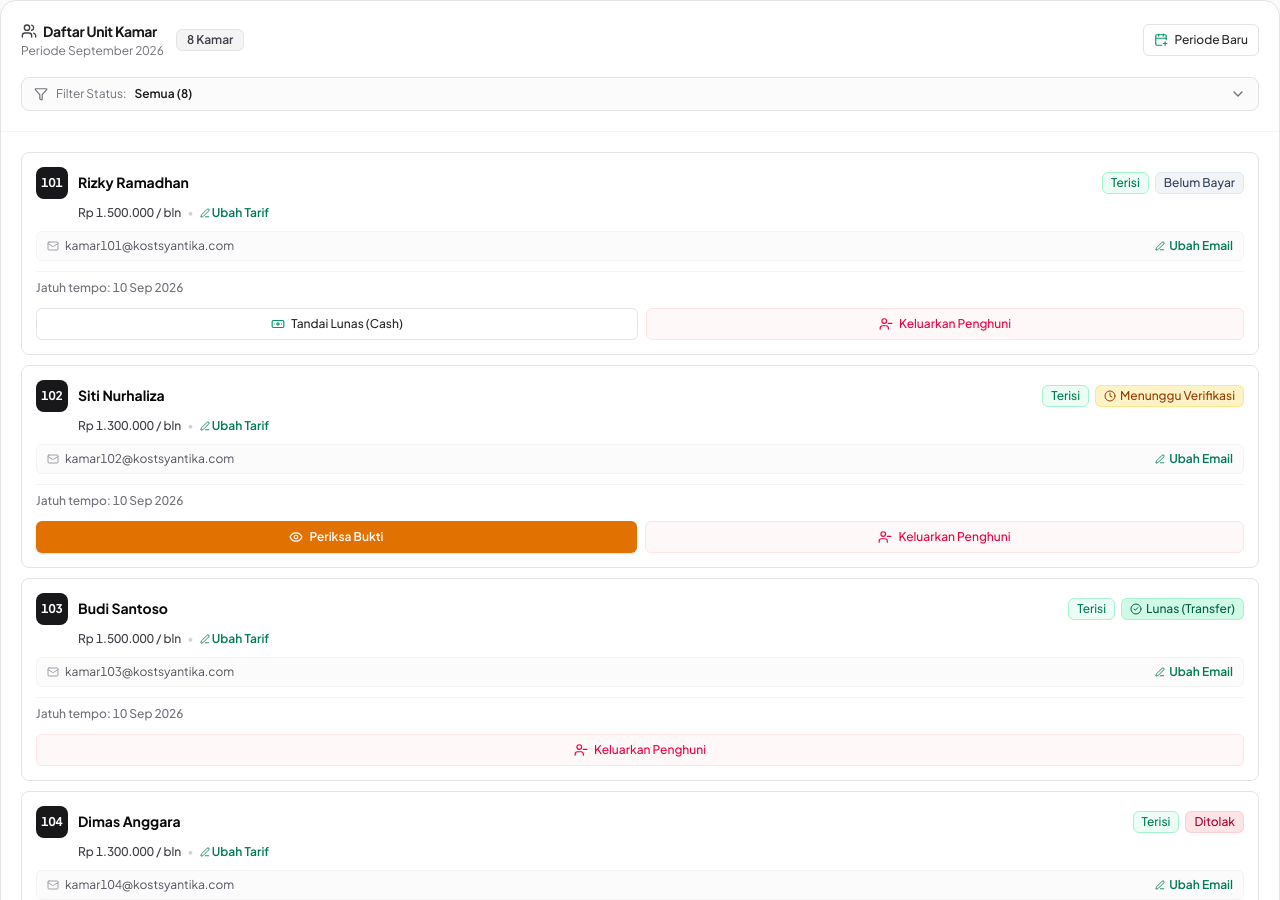
it: PemilikManajemenKamar Integration (Issue 03) › 5. Kartu kamar TERISI menyediakan aksi cepat untuk mengubah email Google terdaftar (Ubah Email)
Check: the text "kamar102@kostsyantika.com" is shown, box x1=65 y1=451 x2=234 y2=467
Click the button with aria-label "Ubah Email Kamar 102" at (1194, 459), box x1=1155 y1=451 x2=1233 y2=467
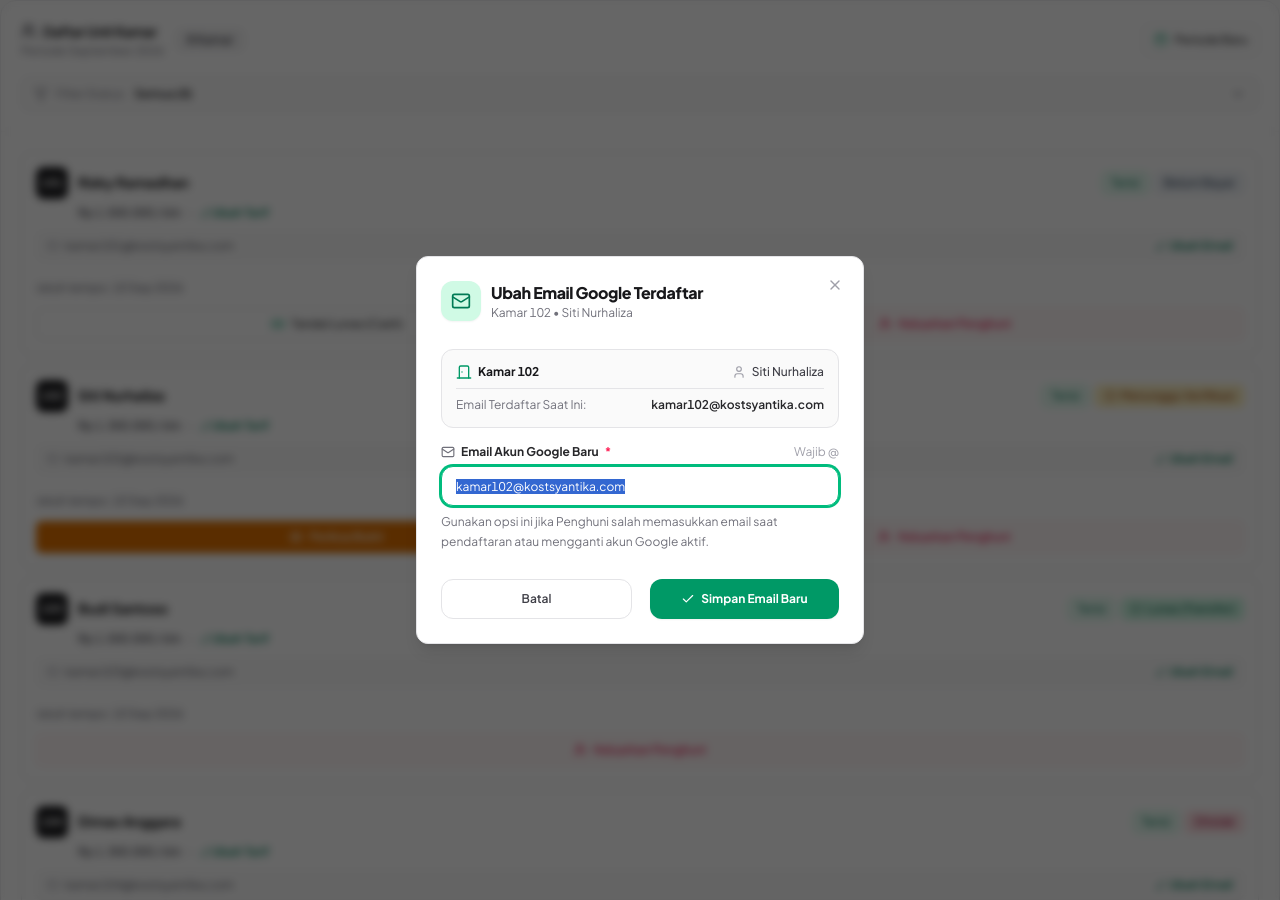
Check: the heading "Ubah Email Google Terdaftar" is shown, box x1=491 y1=281 x2=703 y2=305
Check: the text "Kamar 102 • Siti Nurhaliza" is shown, box x1=491 y1=305 x2=633 y2=320
Note: Masukkan email baru
Replace the text in the field labelled "Email Akun Google Baru * Wajib @" with "siti.resmi@gmail.com" at (640, 486), box x1=441 y1=466 x2=839 y2=506
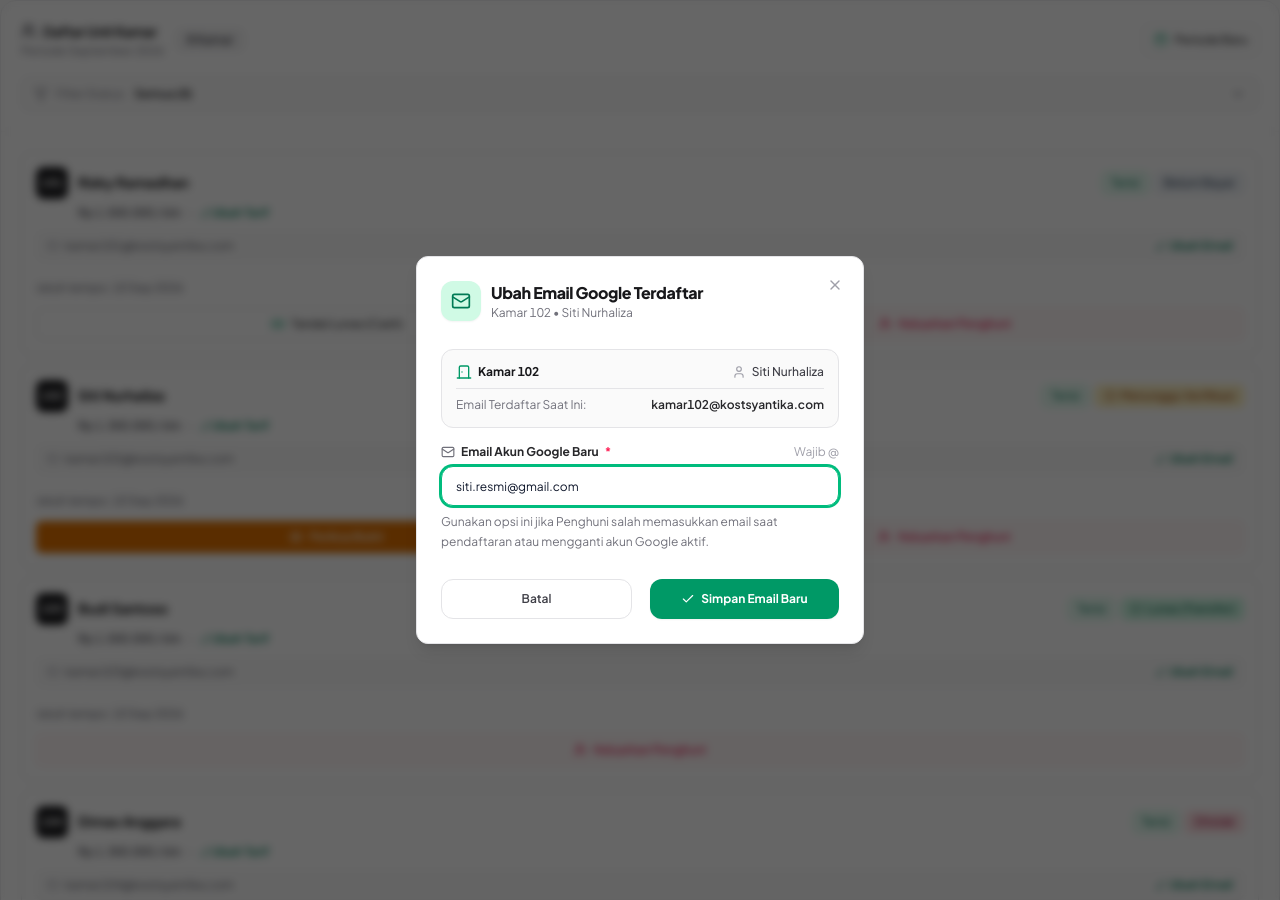
Note: Simpan email baru
Click the button "Simpan Email Baru" at (744, 599), box x1=650 y1=579 x2=839 y2=619
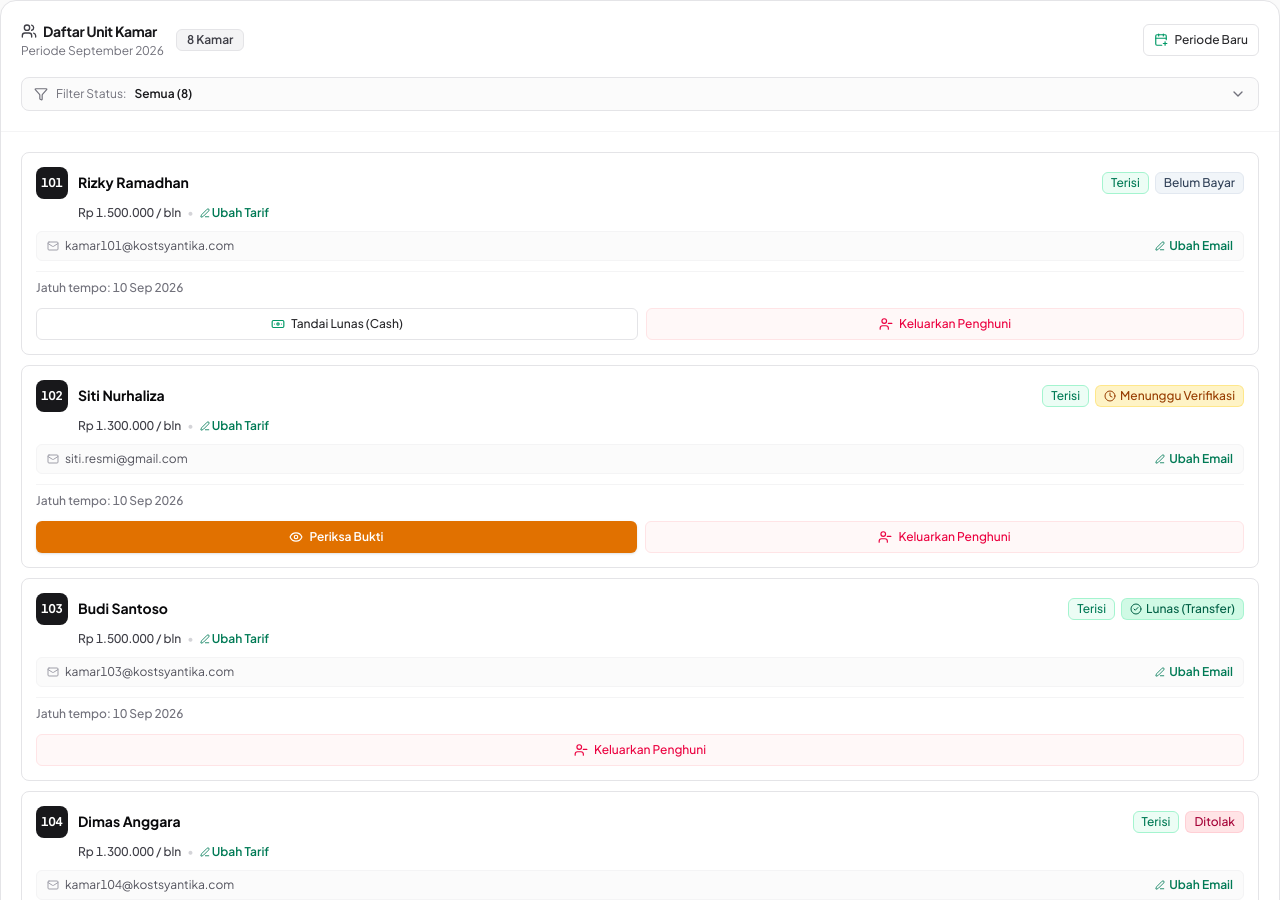
Check: the text "siti.resmi@gmail.com" is shown, box x1=65 y1=451 x2=188 y2=467
